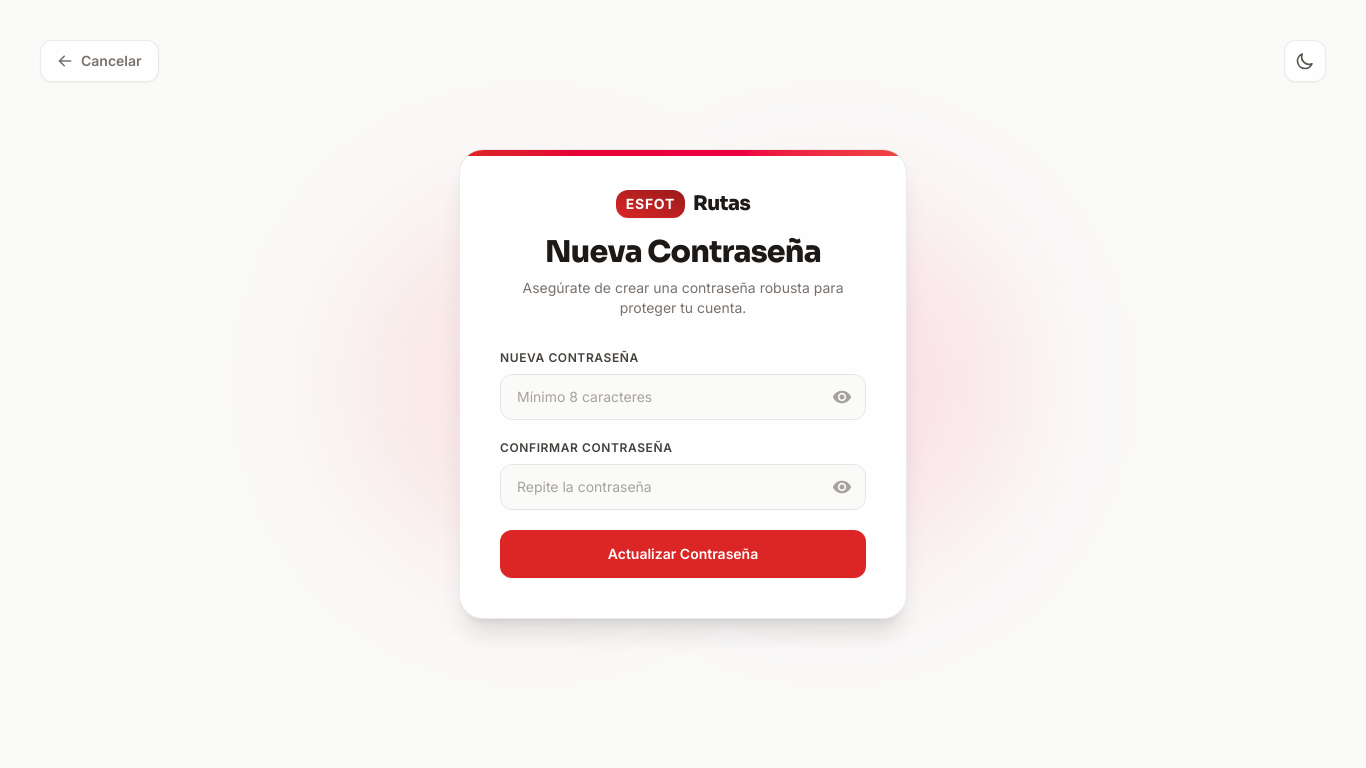
Reset — feedback al usuario › exige mínimo 8 caracteres
The width and height of the screenshot is (1366, 768).
Type "corta" into the password field with placeholder "Mínimo 8 caracteres" at (683, 397), box [500,374,866,420]
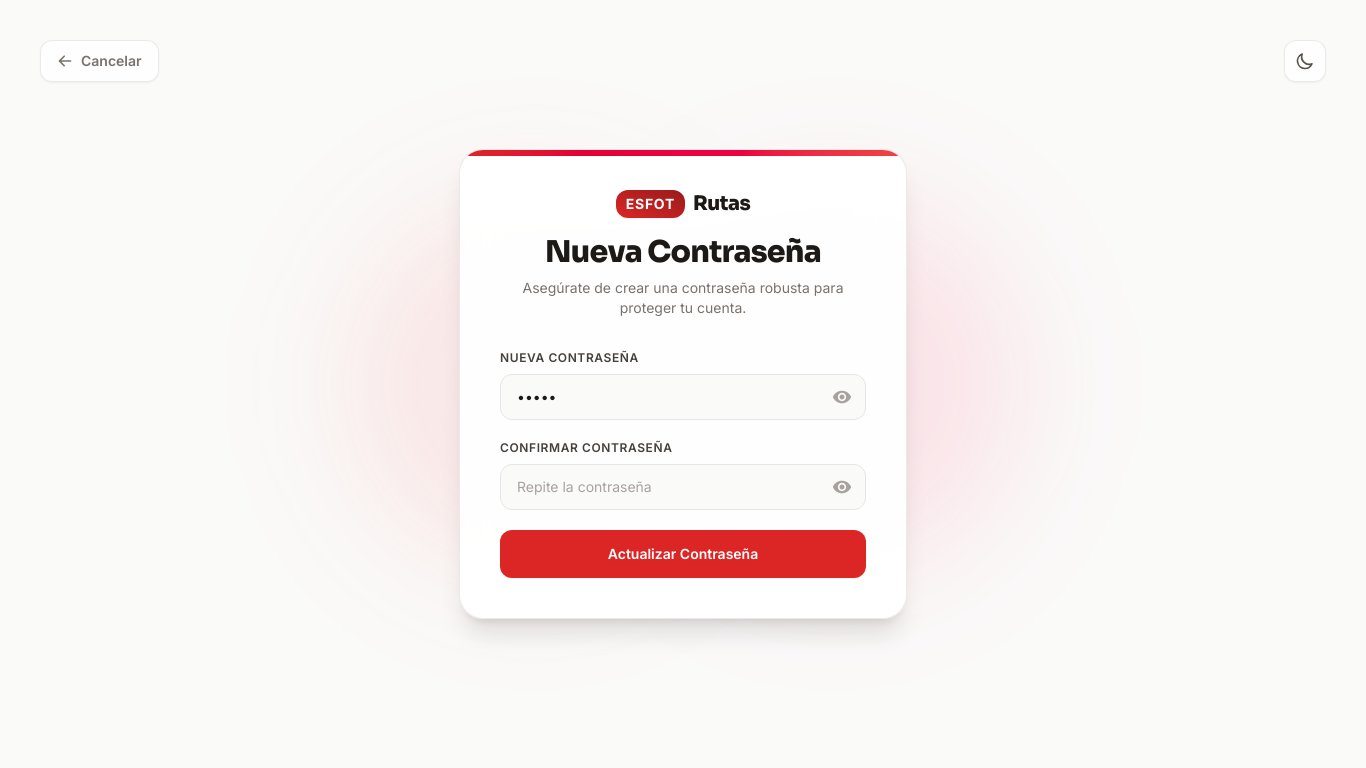
Type "corta" into the password field with placeholder "Repite la contraseña" at (683, 487), box [500,464,866,510]
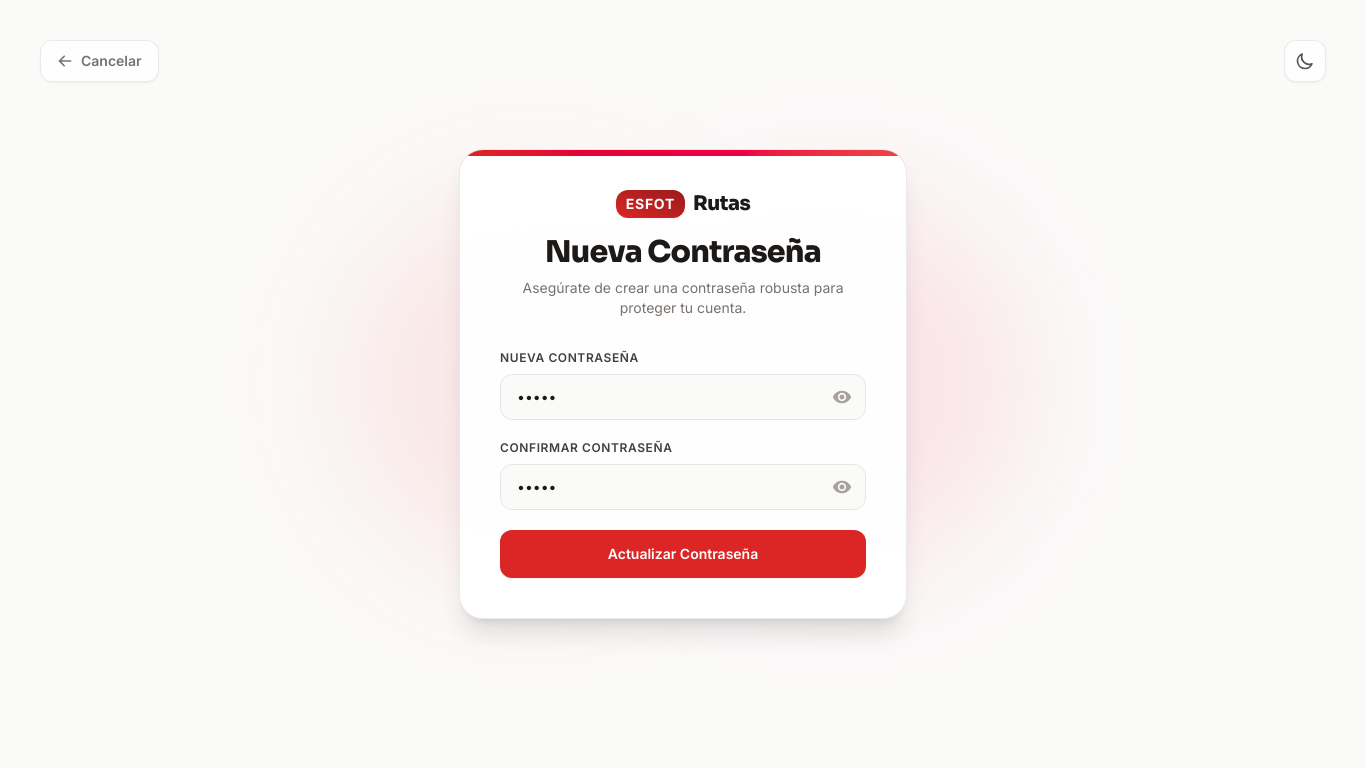
Click the button "Actualizar Contraseña" at (683, 554), box [500,530,866,578]
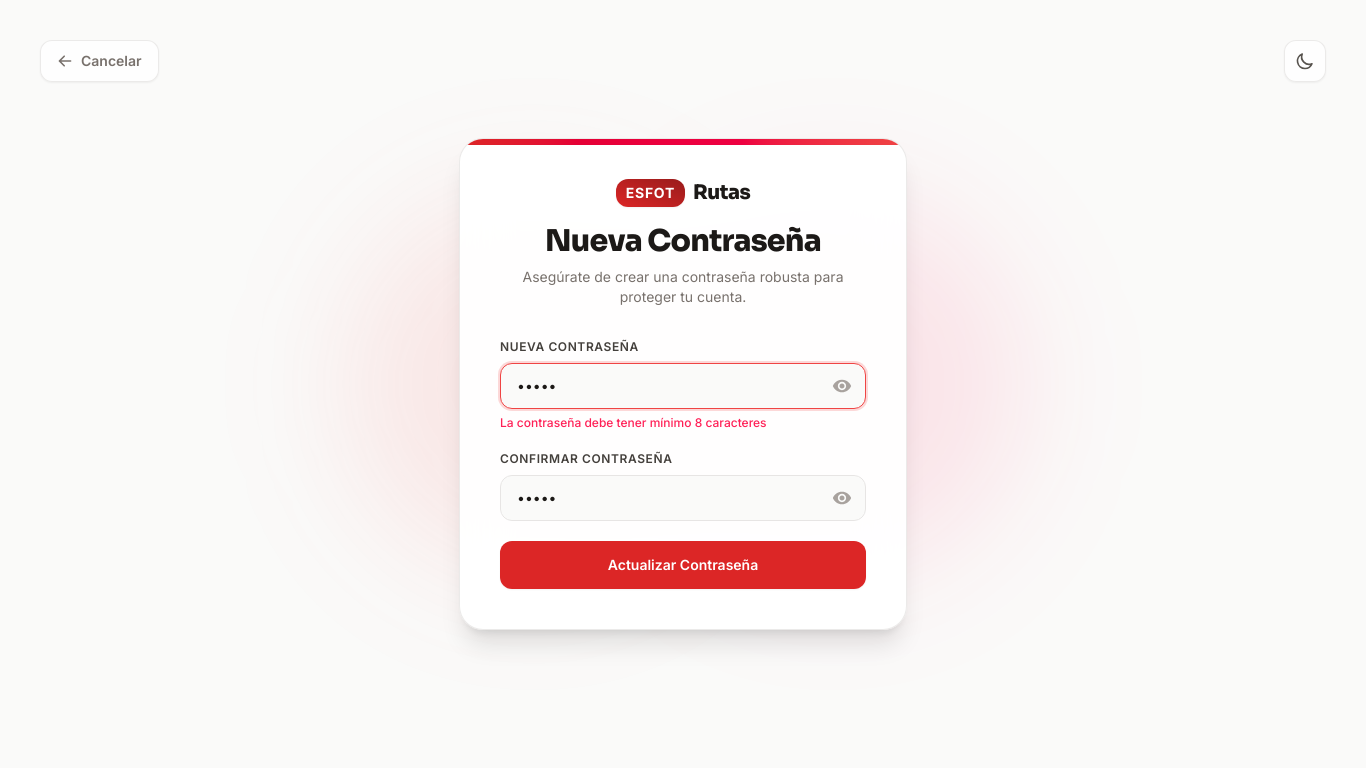
Result: the text "La contraseña debe tener mínimo 8 caracteres" is shown at [500,415,767,430]
